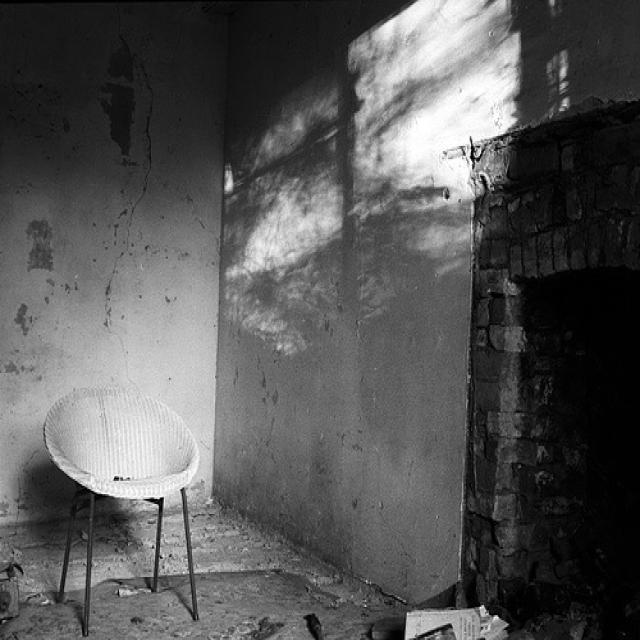chair: (41, 384, 203, 636)
